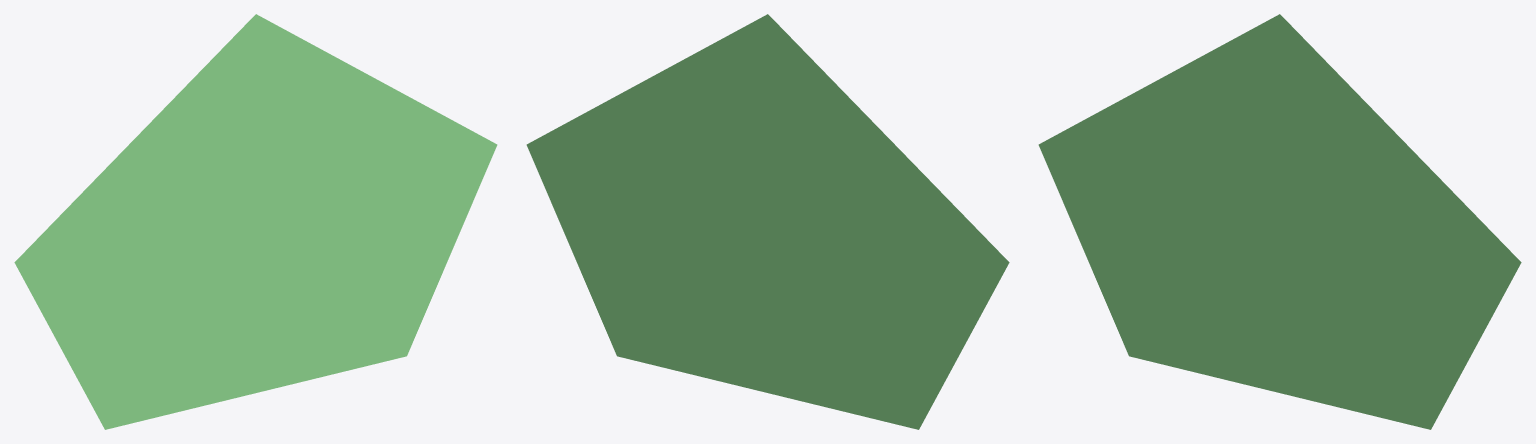
Rendered from polygon_ngon.glb.
The picture shows the model from 3 angles, left to right: view 1: azimuth 30°, elevation 25°; view 2: azimuth 150°, elevation 25°; view 3: azimuth 330°, elevation 25°; orthographic projection.
Parts seen in each view (by area): view 1: RWX_Mesh; view 2: RWX_Mesh; view 3: RWX_Mesh.
Boxes of the visible parts, bbox=[...] form: RWX_Mesh: bbox=[14, 14, 497, 429]; RWX_Mesh: bbox=[526, 14, 1009, 429]; RWX_Mesh: bbox=[1038, 14, 1521, 429].
Size of the model in its own units: 1.6 by 1.2 by 0.
